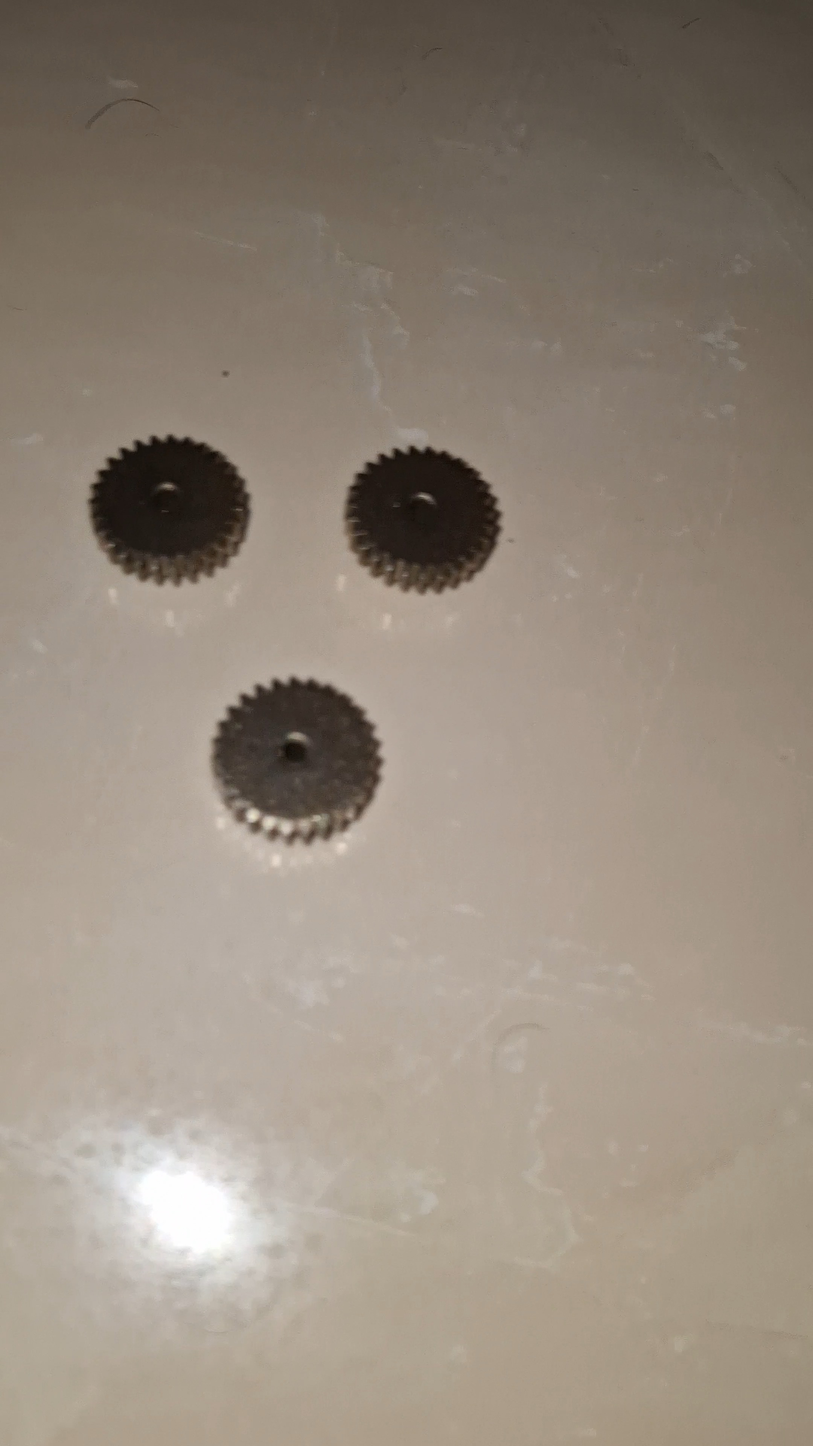spur gear: (212, 679, 381, 841), (90, 437, 249, 583), (345, 448, 499, 592)
